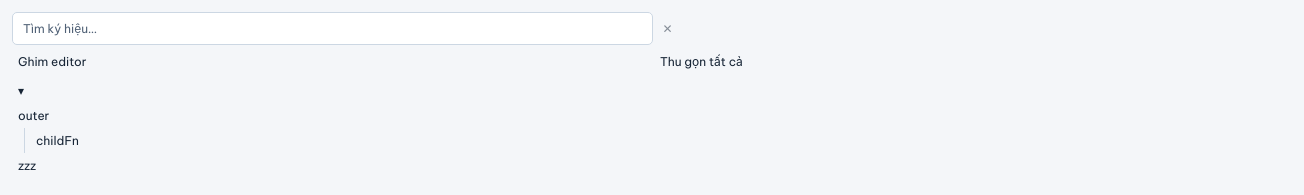
OutlinePanel › filters symbols and clears the filter
This screenshot has width=1304, height=195.
Type "childFn" into the search field labelled "Tìm ký hiệu" at (332, 28), box [12,12,652,45]
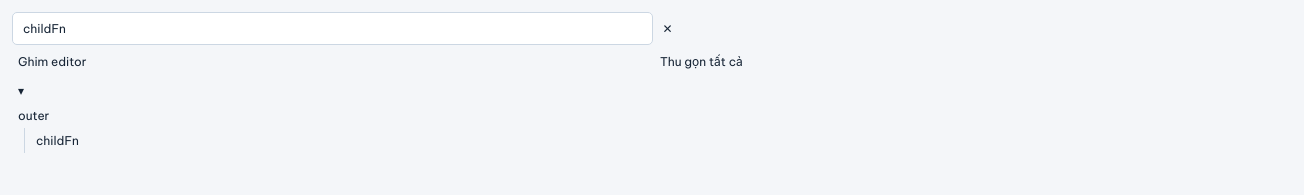
expect the button "childFn" is shown: met, box [30,128,1292,153]
expect the button "zzz" is gone: met
Click the button named "Xóa bộ lọc" at (668, 28), box [656,16,1292,41]
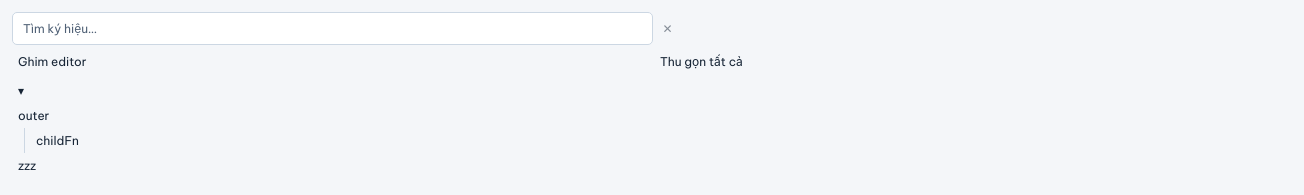
expect the button "zzz" is shown: met, box [12,153,1292,178]
